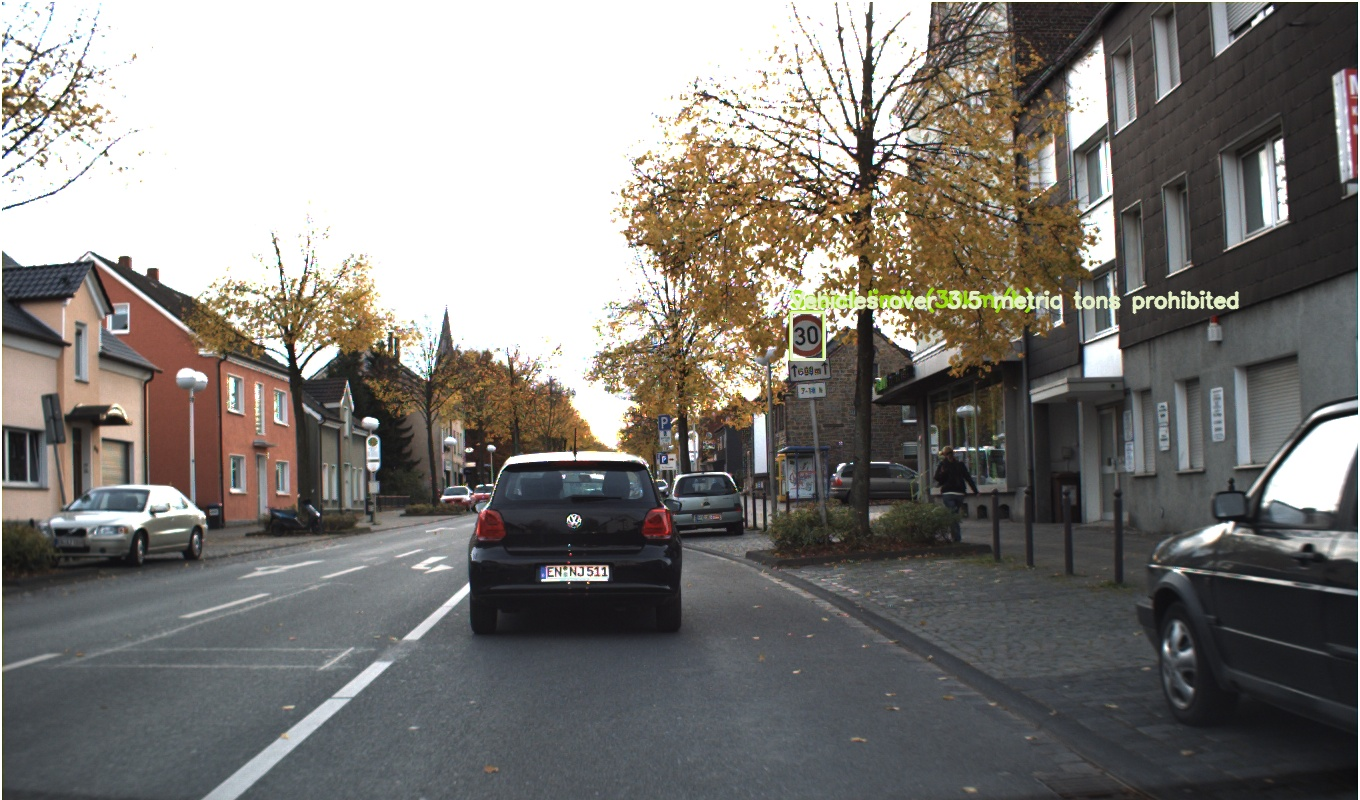Speed limit (60km/h): (1169, 421, 1231, 484)
